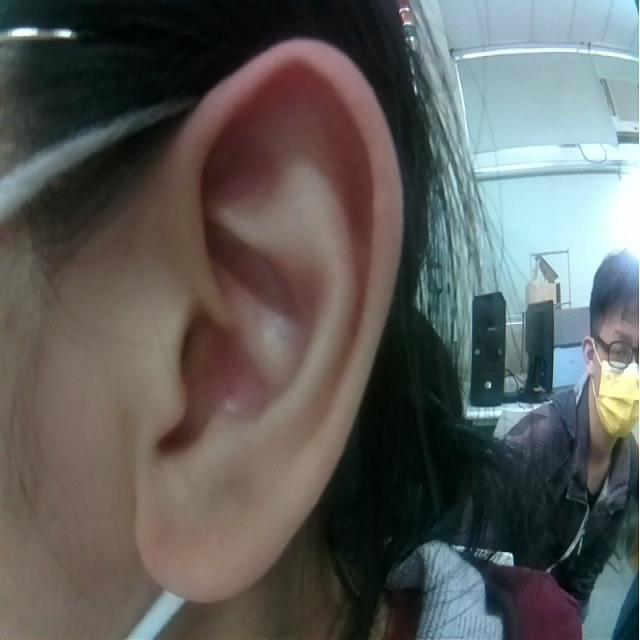no-earmuff: (130, 36, 402, 601)
